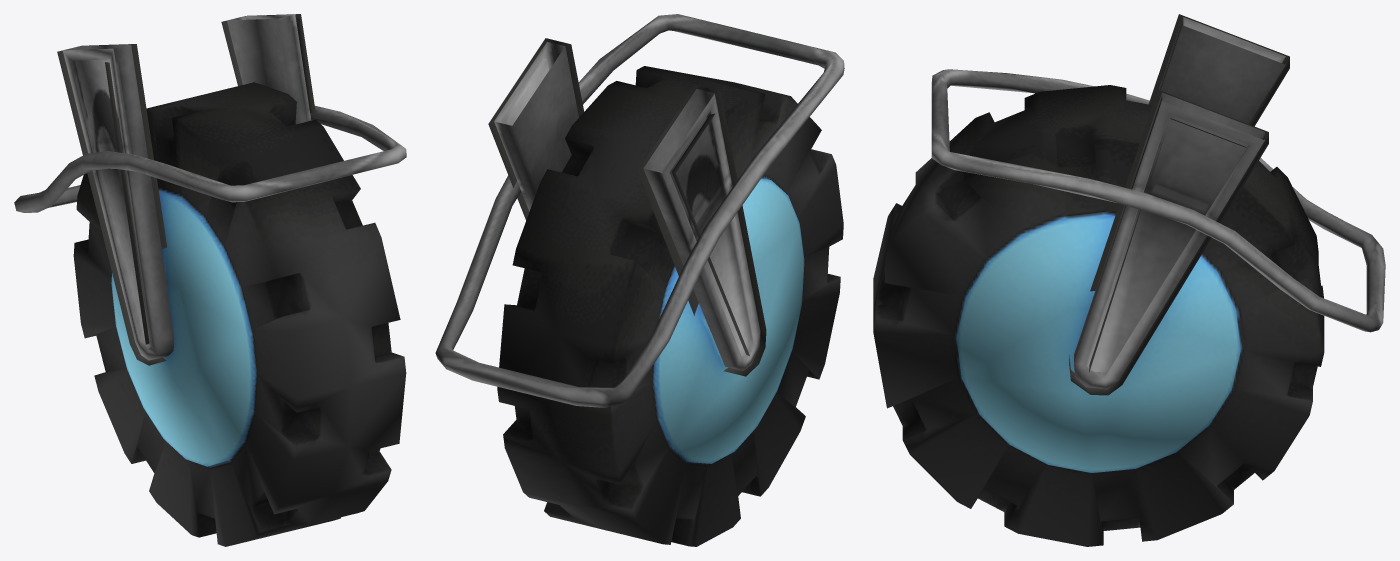
Rendered from wheelF.glb.
The picture shows the model from 3 angles, left to right: view 1: azimuth 30°, elevation 25°; view 2: azimuth 150°, elevation 25°; view 3: azimuth 270°, elevation 25°; orthographic projection. The views are drawn at different scales.
Visible parts, largest first — view 1: Cube.005_moto_0, Cube.009_Material.001_0; view 2: Cube.005_moto_0, Cube.009_Material.001_0; view 3: Cube.005_moto_0, Cube.009_Material.001_0.
Part boxes in pixels (<box>): Cube.005_moto_0: <box>14,14,406,546</box>; Cube.009_Material.001_0: <box>57,14,315,365</box>; Cube.005_moto_0: <box>435,14,844,546</box>; Cube.009_Material.001_0: <box>488,38,766,376</box>; Cube.005_moto_0: <box>873,17,1385,546</box>; Cube.009_Material.001_0: <box>1069,14,1289,395</box>.
Bounding box in the file's own units: 78.43 × 168 × 168.
Materials: 2 (1 with a texture image).
